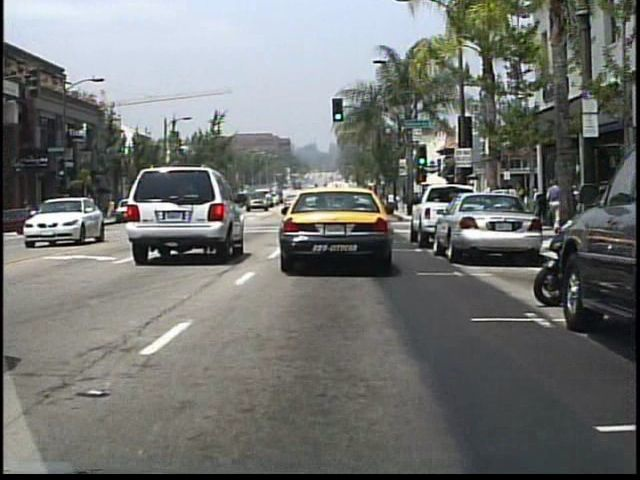person: (511, 179, 529, 232), (545, 178, 562, 230)
